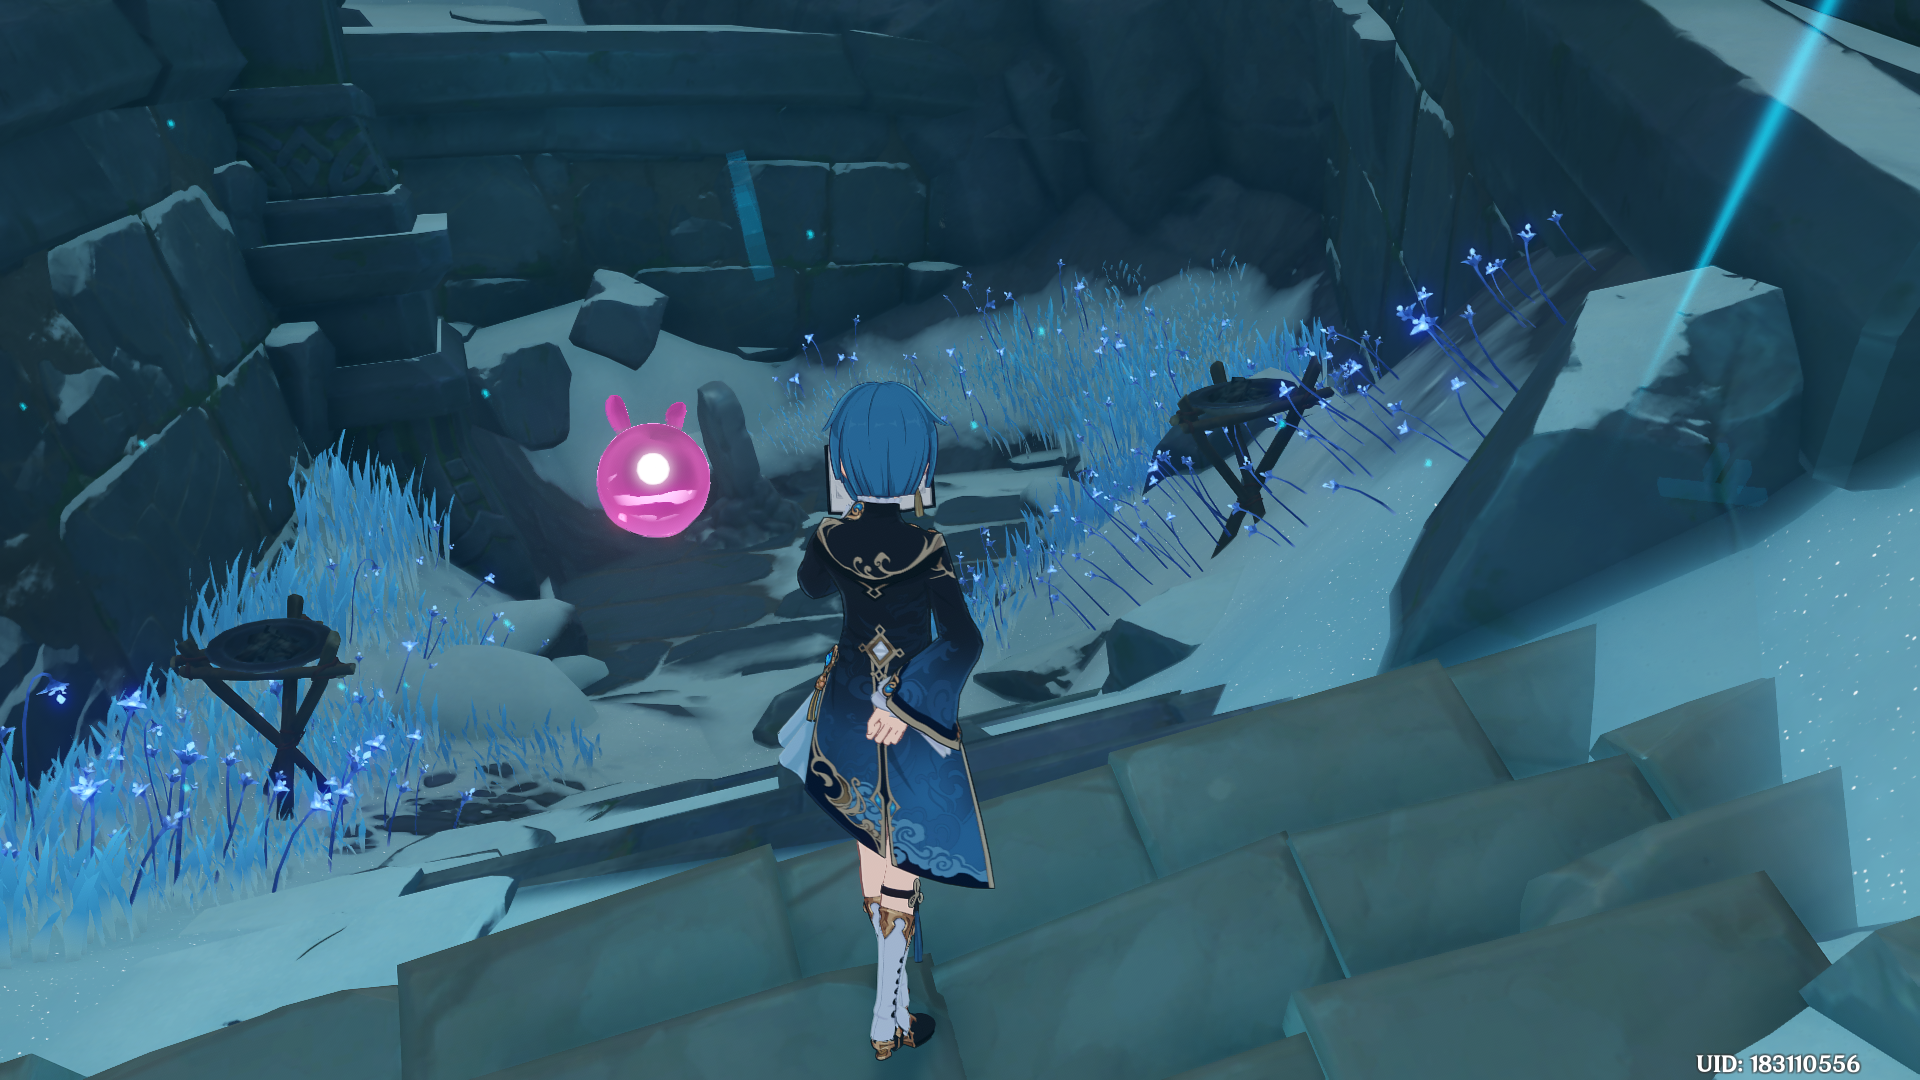character: (700, 345, 1044, 1077)
